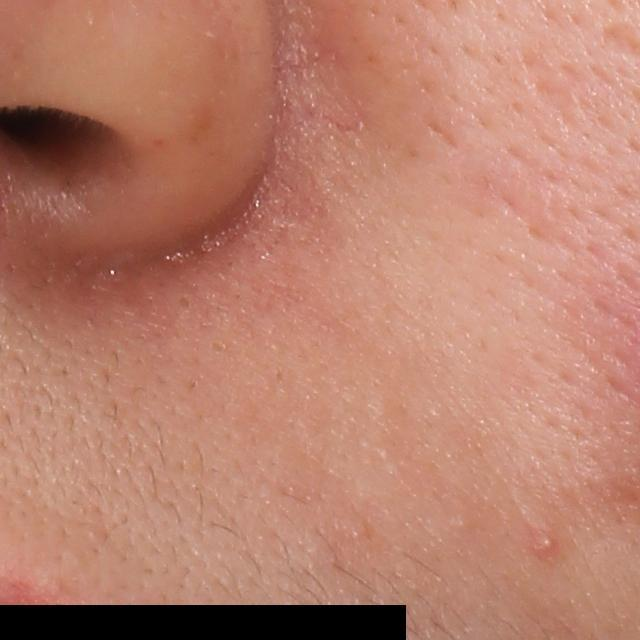atrophic_scar: (430, 119, 457, 150)
comedo: (175, 292, 193, 319)
